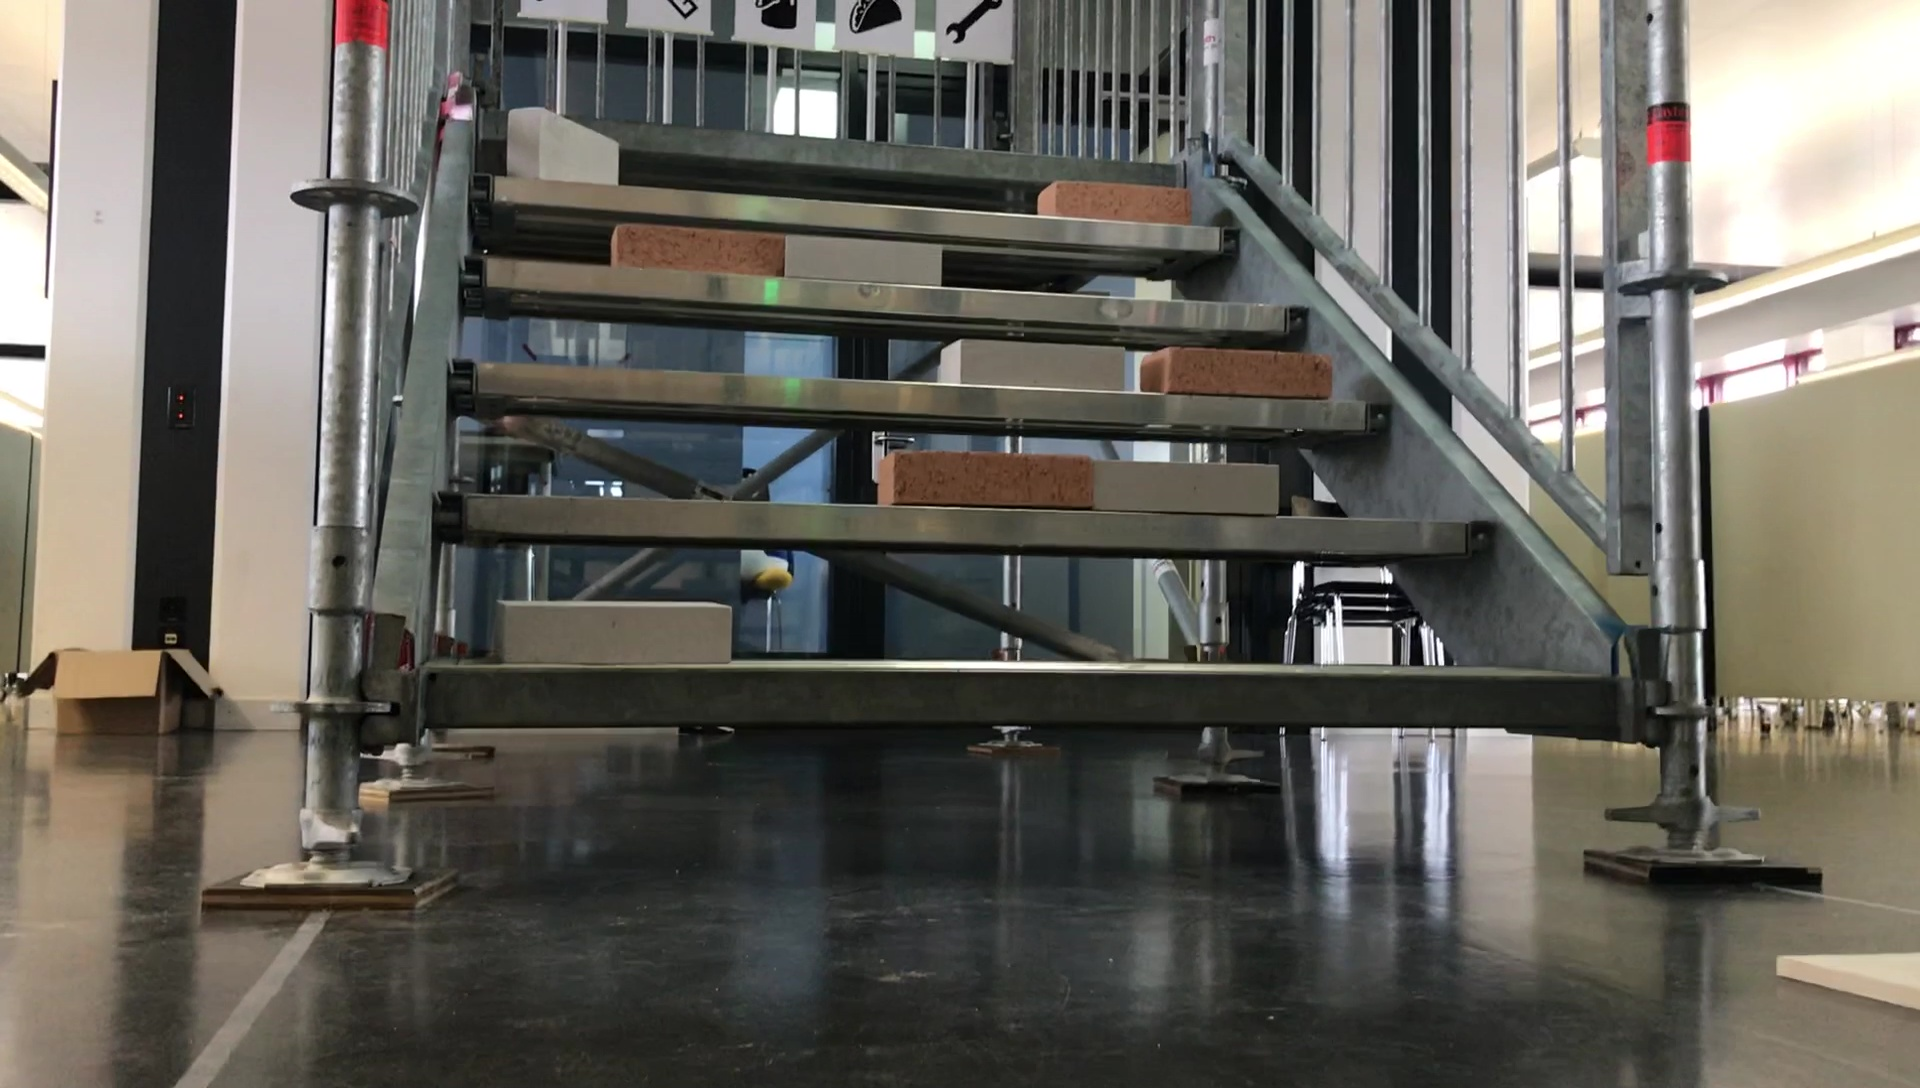brick: (491, 587, 738, 667), (880, 455, 1096, 509), (603, 220, 785, 281), (1091, 458, 1284, 512), (1139, 346, 1333, 400), (495, 107, 622, 182), (934, 343, 1130, 386), (789, 233, 940, 284), (1036, 179, 1197, 224)
bucket: (753, 0, 802, 32)
edge: (400, 659, 1648, 732), (458, 378, 1393, 438), (444, 506, 1505, 543), (465, 285, 1307, 324), (483, 214, 1247, 248), (505, 131, 1197, 162)
stairs: (287, 0, 1695, 917)
steps: (377, 117, 1646, 750)
taco: (847, 0, 913, 30)
wrench: (945, 0, 1004, 44)
